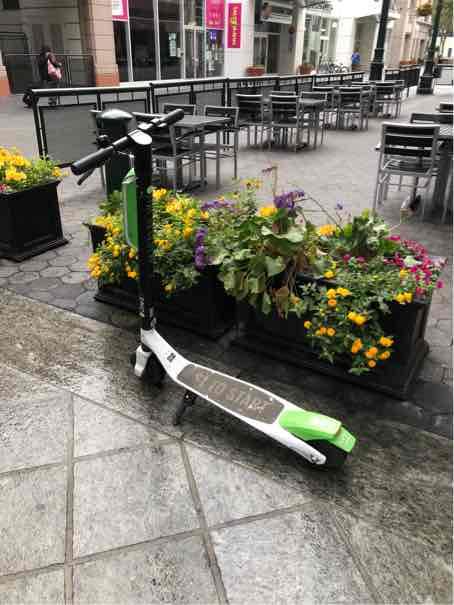scooter: (55, 92, 366, 479)
